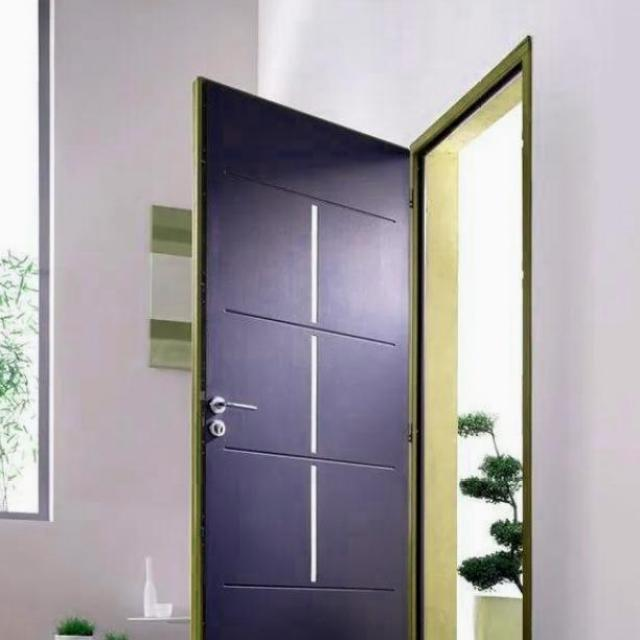door: (193, 76, 416, 638)
